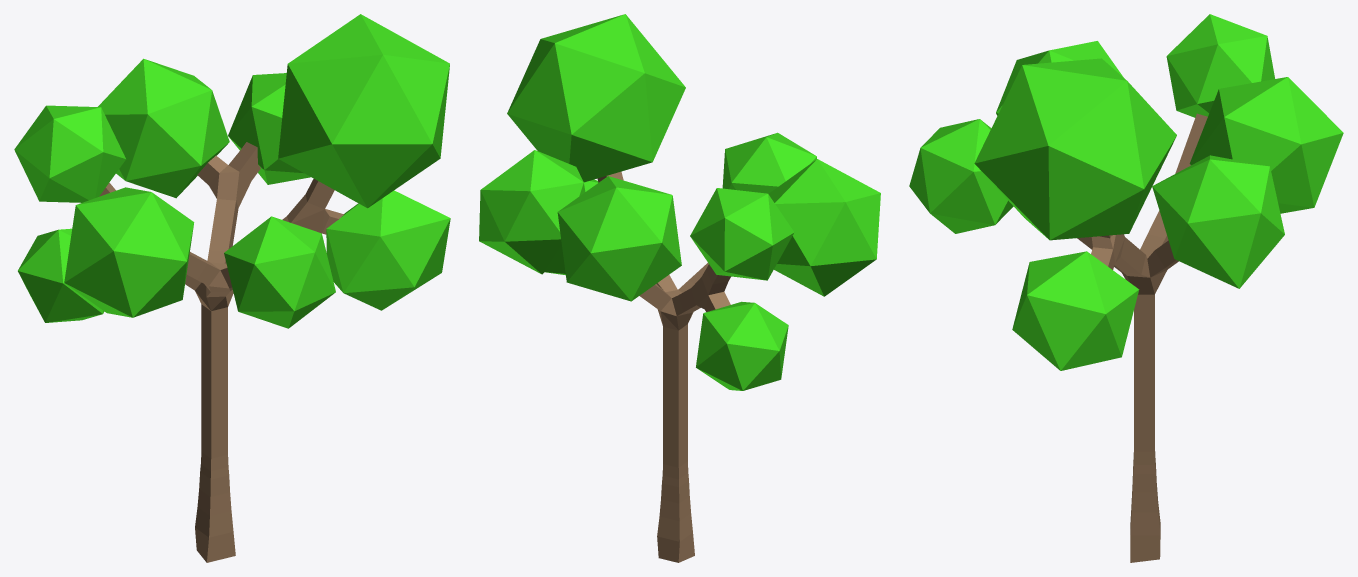
The model's file is Tree3.glb.
3 renders of one model, left to right at view 1: azimuth 30°, elevation 25°; view 2: azimuth 150°, elevation 25°; view 3: azimuth 270°, elevation 25°, orthographic. The views are drawn at different scales.
Visible parts, largest first — view 1: Leaves, Tree; view 2: Leaves, Tree; view 3: Leaves, Tree.
Boxes of the visible parts, x1=… form: Leaves: x1=14, y1=14, x2=450, y2=328; Tree: x1=99, y1=142, x2=343, y2=562; Leaves: x1=479, y1=14, x2=880, y2=390; Tree: x1=597, y1=171, x2=730, y2=562; Leaves: x1=909, y1=14, x2=1343, y2=370; Tree: x1=1077, y1=113, x2=1207, y2=562.
Size of the model in its own units: 1.69 by 2.22 by 1.6.
